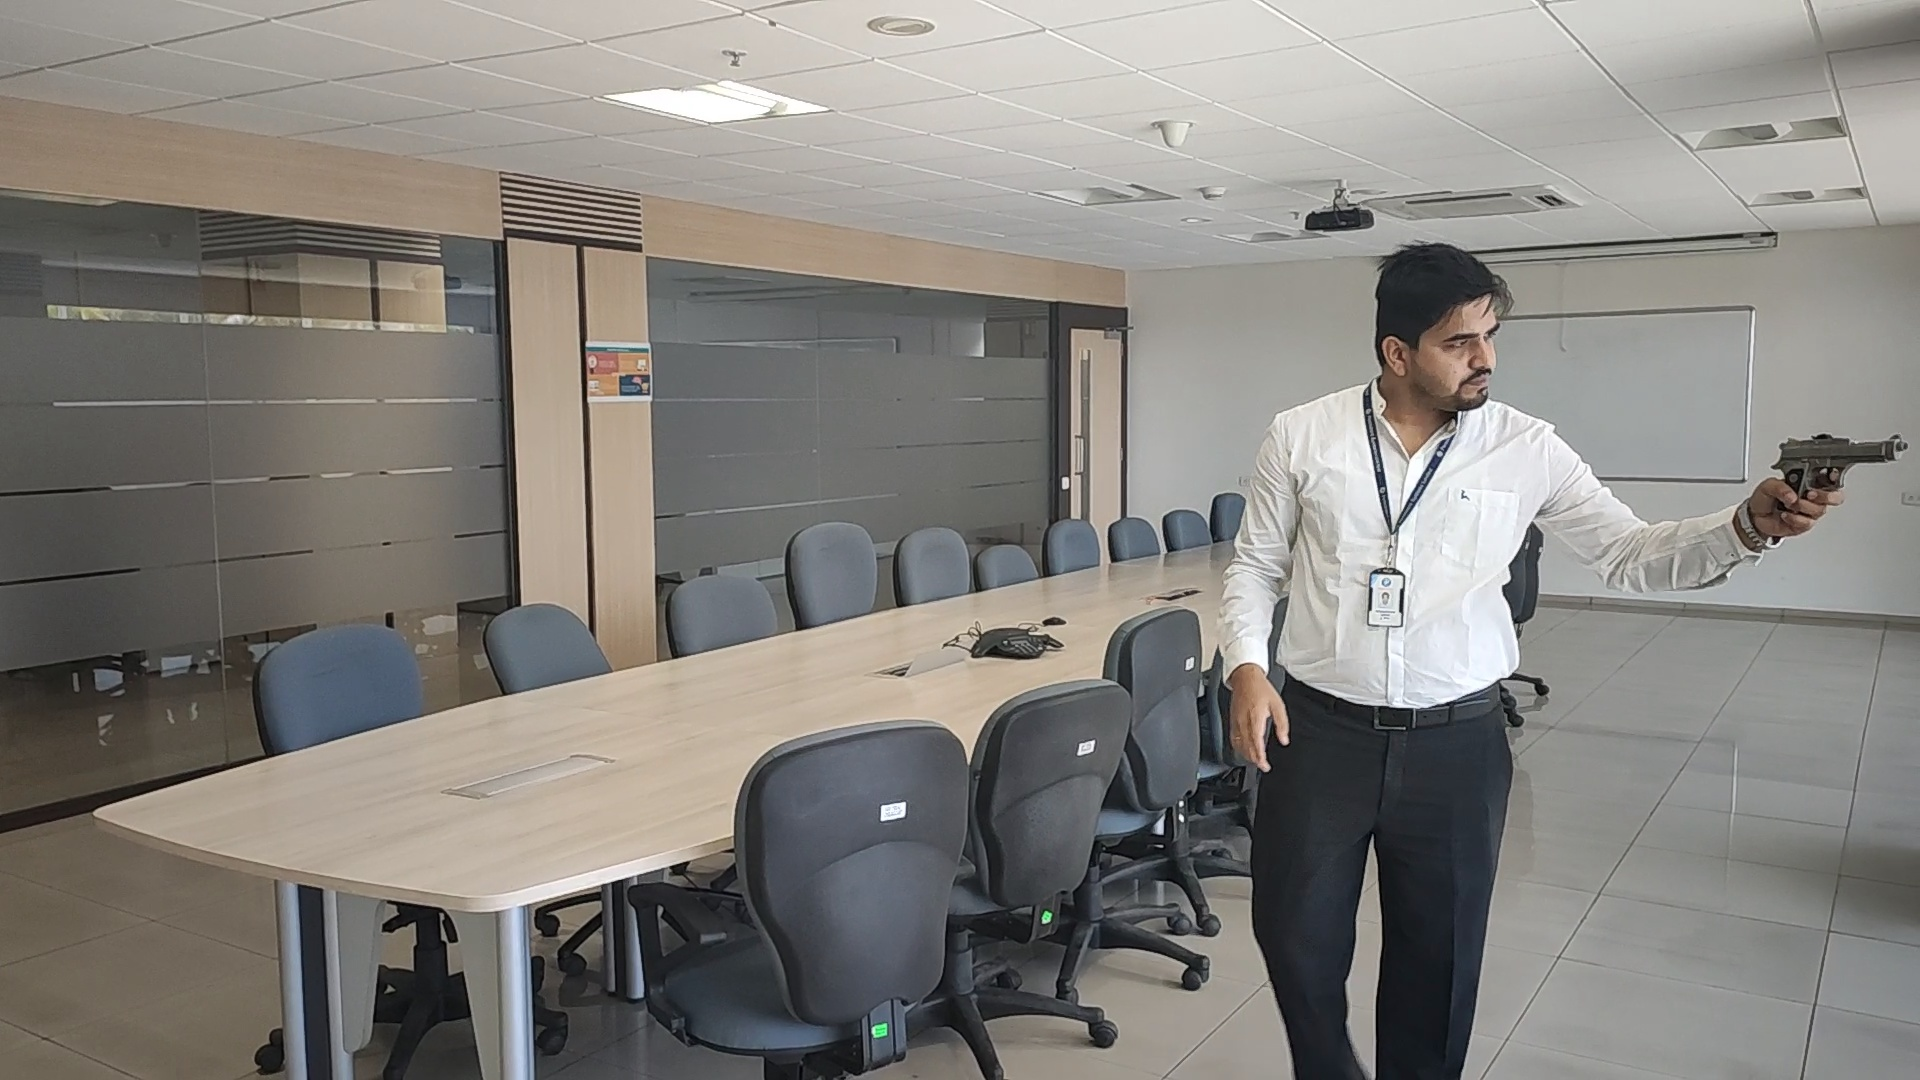gun: (1768, 430, 1911, 475)
